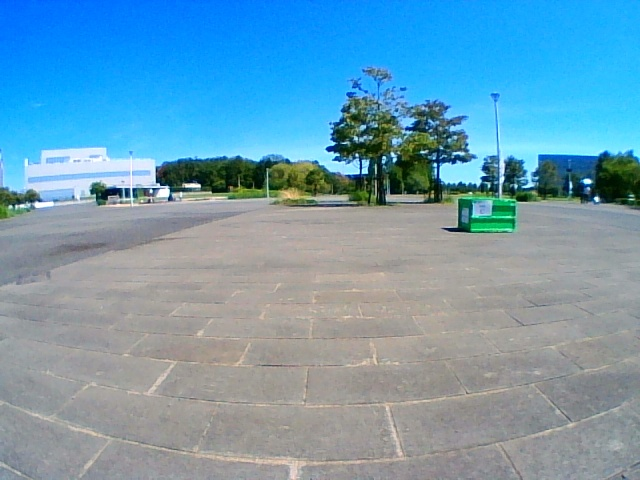green_box: (459, 197, 515, 233)
tag: (474, 200, 490, 216)
